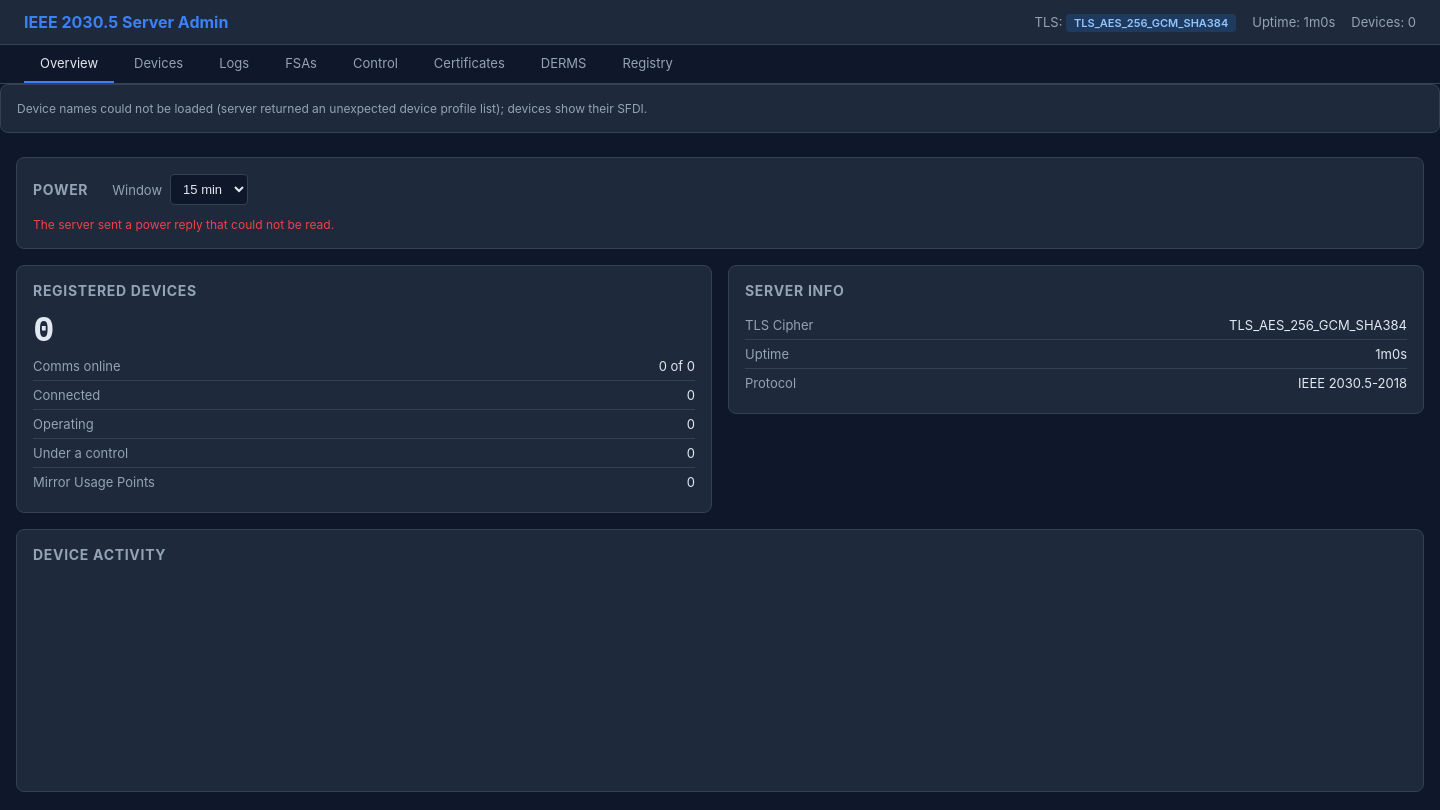
it: AdminShell registered panels › renders the panel a nav entry routes to, from its own descriptor
Expected: the navigation bar with class "tab-bar" is shown, [0,45,1439,84]
Click the link with test id "tab-gridappsd-registry" at (648, 63), box [622,55,673,71]
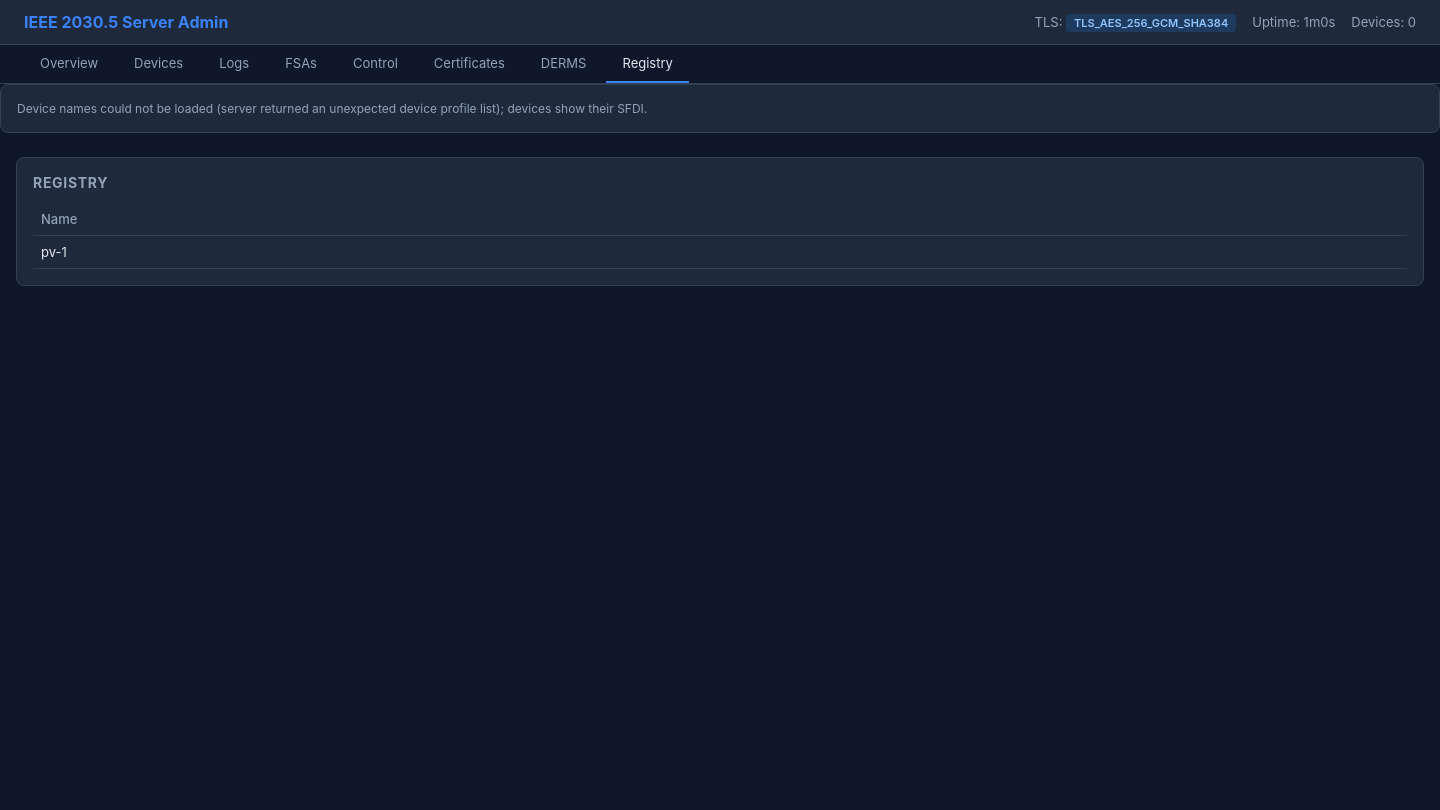
Now the heading with test id "descriptor-heading" reads "Registry", box [33,174,108,191]
